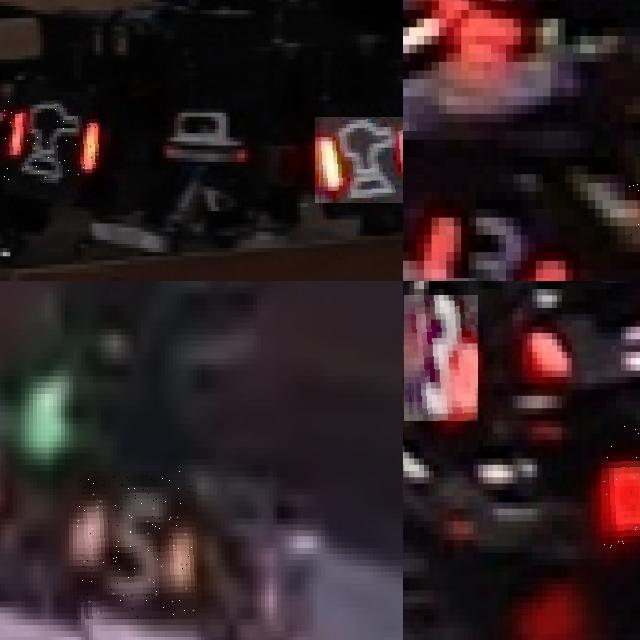R3: (416, 200, 572, 281), (404, 295, 478, 421), (601, 420, 640, 552)
R5: (77, 471, 197, 619)
Rs: (3, 100, 100, 182), (315, 117, 403, 203)
